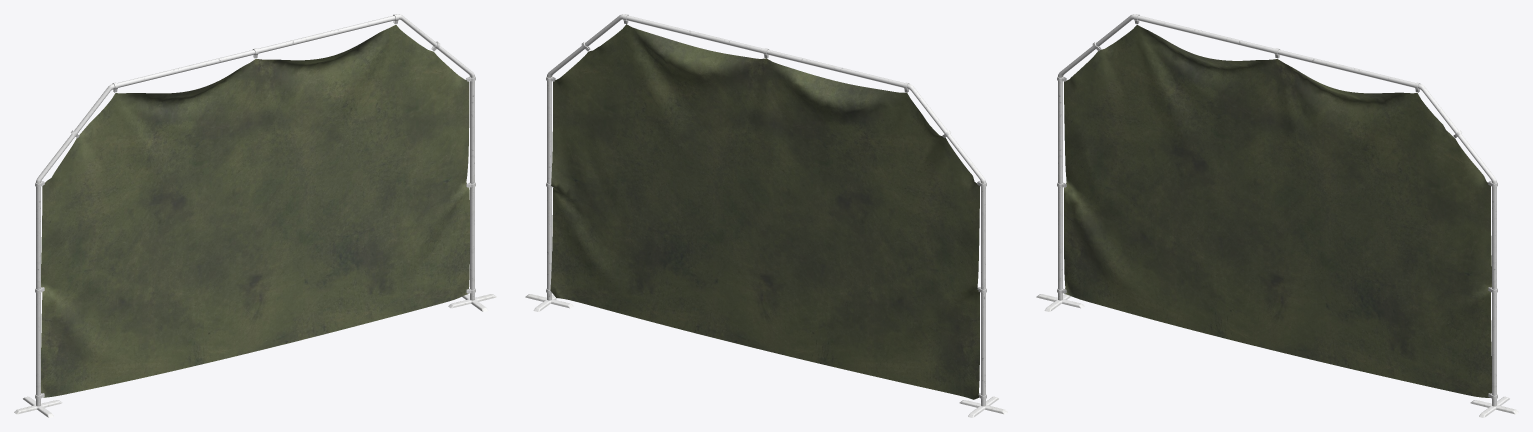
The model's file is SM_Hospital_Curtain.glb.
3 renders of one model, left to right at view 1: azimuth 30°, elevation 25°; view 2: azimuth 150°, elevation 25°; view 3: azimuth 330°, elevation 25°, orthographic.
Parts seen in each view (by area): view 1: SM_Hospital_Curtain; view 2: SM_Hospital_Curtain; view 3: SM_Hospital_Curtain.
Boxes of the visible parts, <box> form: SM_Hospital_Curtain: <box>14,14,496,417</box>; SM_Hospital_Curtain: <box>525,14,1007,417</box>; SM_Hospital_Curtain: <box>1036,14,1518,417</box>.
Bounding box in the file's own units: 3.32 × 2.02 × 0.3213.
Materials: 2 (2 with a texture image).
